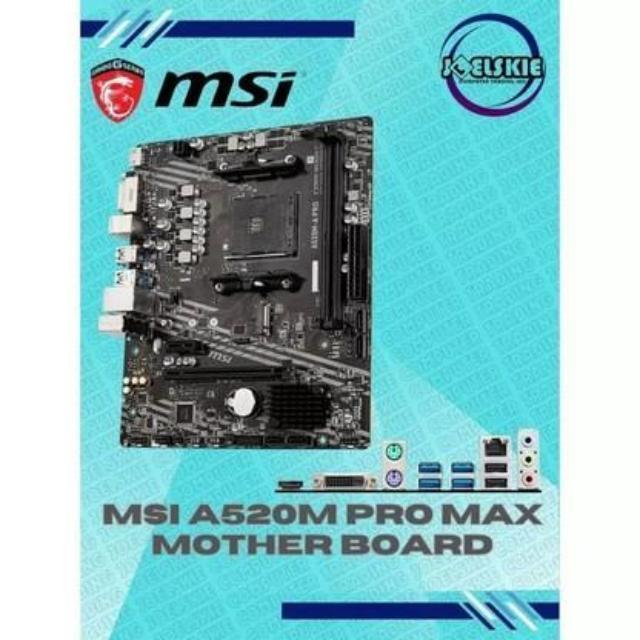Mainboard: (127, 120, 375, 445)
